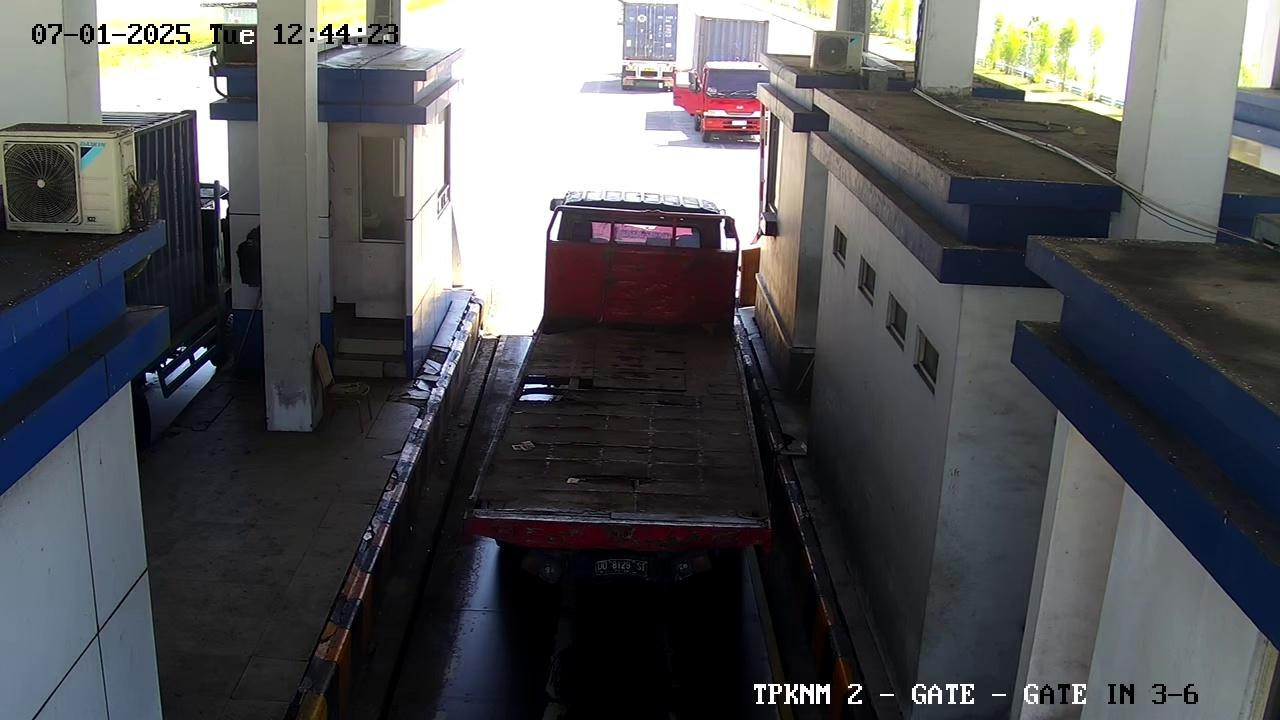plate_number: (576, 556, 663, 581)
